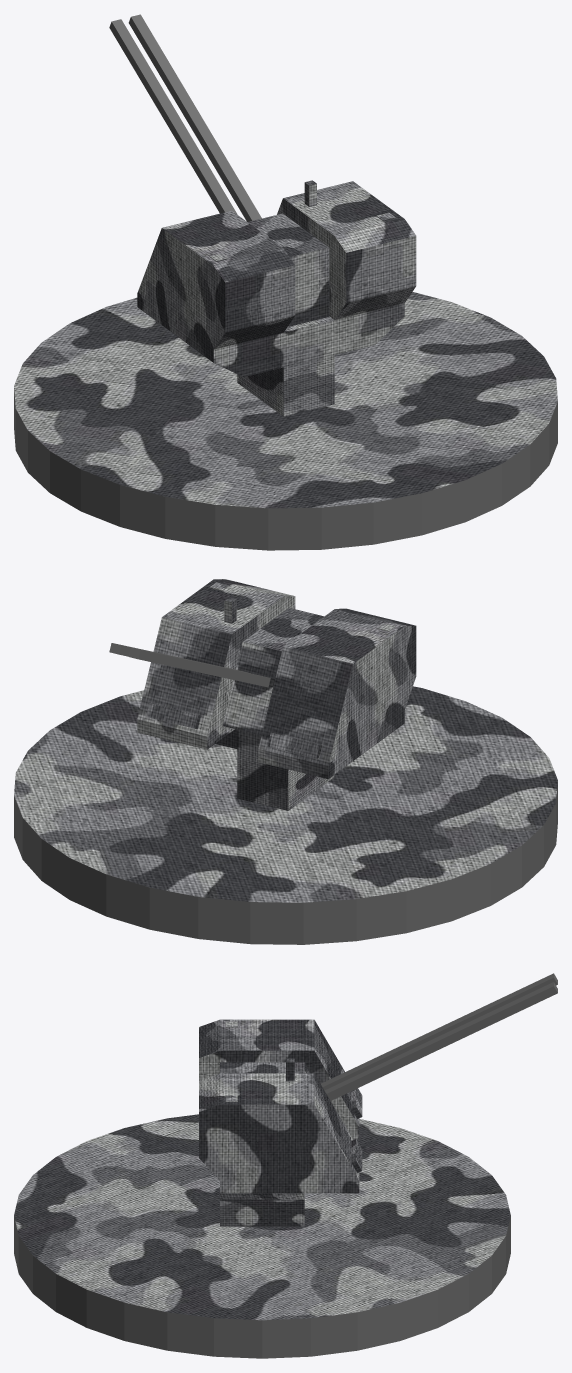
The model's file is air_gun_2.fbx.
The picture shows the model from 3 angles, top to bottom: view 1: azimuth 30°, elevation 25°; view 2: azimuth 150°, elevation 25°; view 3: azimuth 270°, elevation 25°; orthographic projection. The views are drawn at different scales.
Parts seen in each view (by area): view 1: Cylinder.001, Cylinder; view 2: Cylinder.001, Cylinder; view 3: Cylinder.001, Cylinder.
Part boxes in pixels (box(x1,y1,x2,y2)): Cylinder.001: box(14, 292, 557, 550); Cylinder: box(109, 14, 416, 416); Cylinder.001: box(14, 686, 557, 944); Cylinder: box(109, 579, 416, 810); Cylinder.001: box(14, 1114, 510, 1358); Cylinder: box(199, 973, 557, 1226).
Bounding box in the file's own units: 1175 × 715 × 1287.
Materials: 2 (1 with a texture image).
